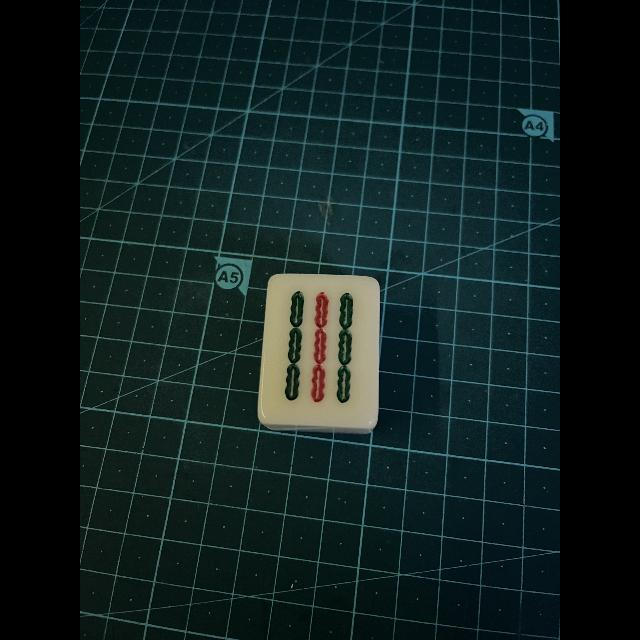b9: (267, 276, 375, 422)
